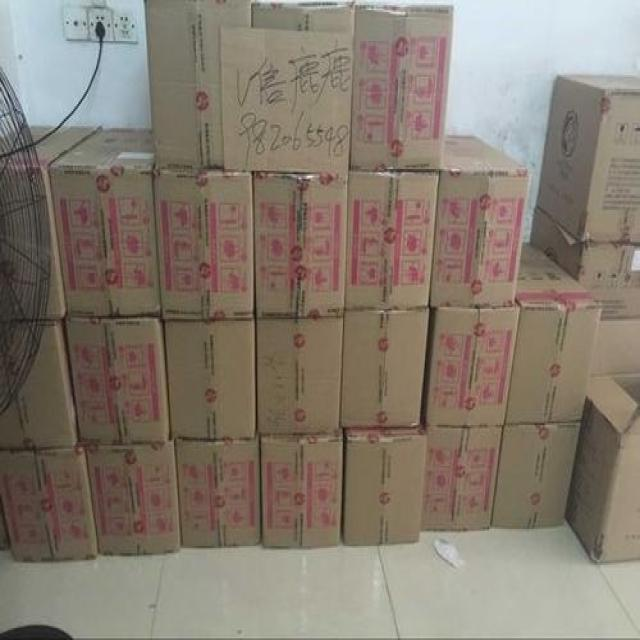box: (51, 128, 161, 317), (0, 125, 104, 323), (145, 0, 251, 171), (567, 316, 640, 563), (536, 75, 640, 244), (430, 135, 532, 307), (506, 244, 602, 425), (349, 3, 454, 167), (155, 167, 255, 321), (252, 171, 348, 319), (63, 316, 172, 444), (347, 167, 440, 312), (530, 207, 640, 321), (421, 305, 521, 427), (83, 437, 183, 556), (0, 444, 99, 561), (165, 319, 259, 440), (340, 307, 429, 428), (0, 319, 79, 449), (256, 319, 344, 435), (174, 433, 261, 550), (260, 427, 344, 548), (342, 427, 426, 548), (492, 423, 581, 529), (421, 427, 503, 531), (252, 0, 356, 43)
